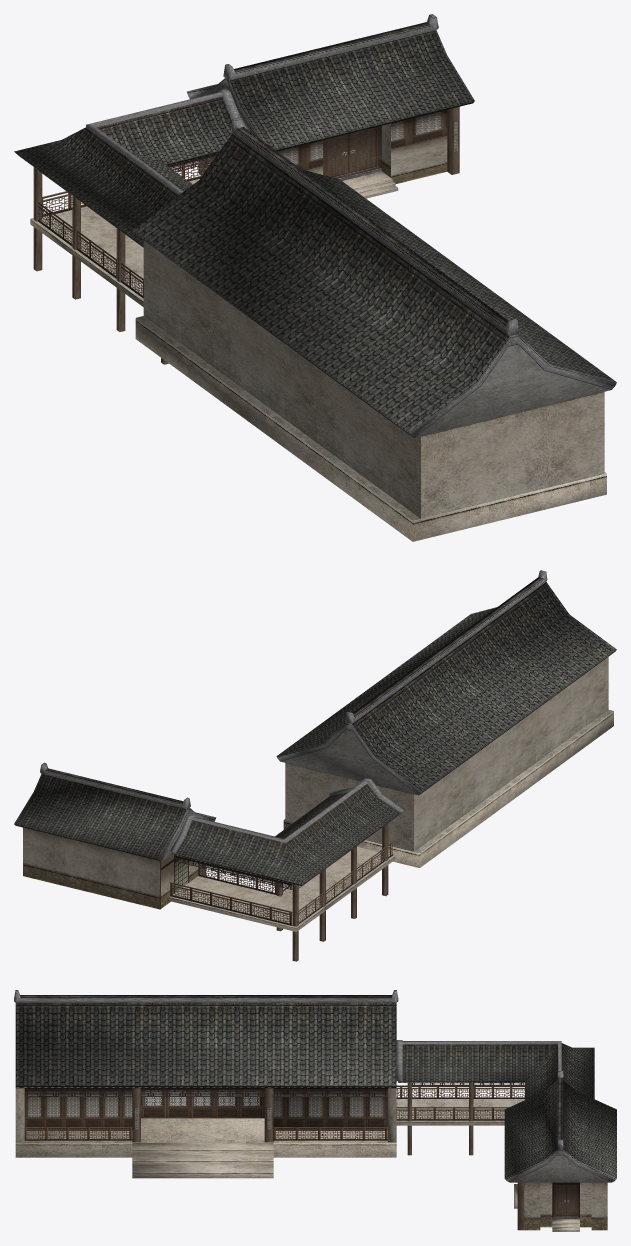
The model's file is cj_rich4_buil01.glb.
3 views of the same model, one above another, from view 1: azimuth 30°, elevation 25°; view 2: azimuth 150°, elevation 25°; view 3: azimuth 270°, elevation 25° (orthographic). The views are drawn at different scales.
Parts seen in each view (by area): view 1: CJ_rich04_buil01_roof, CJ_rich04_buil01_floor, CJ_rich04_buil01_wall01, CJ_rich04_buil01_wall01_al, CJ_rich04_buil01_wall02; view 2: CJ_rich04_buil01_roof, CJ_rich04_buil01_floor, CJ_rich04_buil01_wall01, CJ_rich04_buil01_wall01_al, CJ_rich04_buil01_wall02; view 3: CJ_rich04_buil01_roof, CJ_rich04_buil01_floor, CJ_rich04_buil01_wall01, CJ_rich04_buil01_wall01_al, CJ_rich04_buil01_wall02.
Part boxes in pixels (x1=…): CJ_rich04_buil01_roof: x1=14, y1=14, x2=616, y2=437; CJ_rich04_buil01_floor: x1=30, y1=171, x2=606, y2=541; CJ_rich04_buil01_wall01: x1=33, y1=106, x2=459, y2=364; CJ_rich04_buil01_wall01_al: x1=38, y1=154, x2=217, y2=298; CJ_rich04_buil01_wall02: x1=198, y1=125, x2=381, y2=180; CJ_rich04_buil01_roof: x1=14, y1=570, x2=616, y2=885; CJ_rich04_buil01_floor: x1=169, y1=657, x2=613, y2=931; CJ_rich04_buil01_wall01: x1=23, y1=823, x2=388, y2=961; CJ_rich04_buil01_wall01_al: x1=170, y1=825, x2=392, y2=925; CJ_rich04_buil01_wall02: x1=160, y1=854, x2=202, y2=909; CJ_rich04_buil01_roof: x1=14, y1=990, x2=616, y2=1182; CJ_rich04_buil01_floor: x1=15, y1=1088, x2=579, y2=1231; CJ_rich04_buil01_wall01: x1=24, y1=1083, x2=607, y2=1230; CJ_rich04_buil01_wall01_al: x1=24, y1=1083, x2=524, y2=1140; CJ_rich04_buil01_wall02: x1=552, y1=1182, x2=579, y2=1219.
Bounding box in the file's own units: 16.97 × 9.05 × 30.4.
5 materials, 5 textured.
